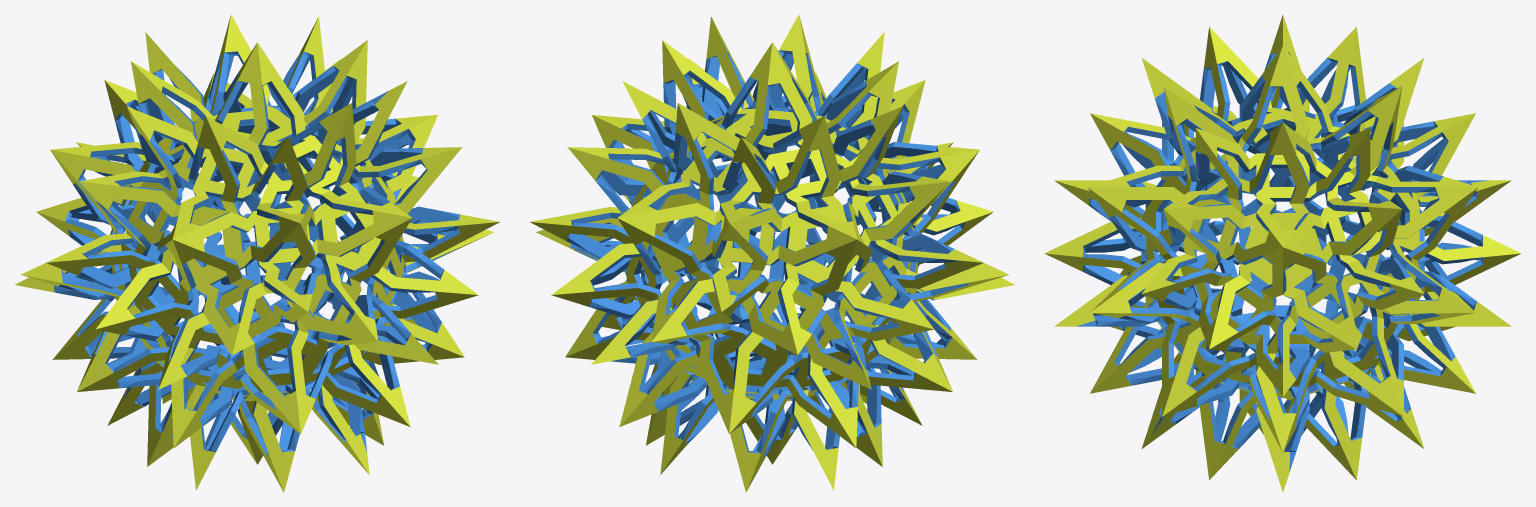
Rendered from StarPolyknotRhombicosidodecahedron1.glb.
3 views of the same model, side by side, from view 1: azimuth 30°, elevation 25°; view 2: azimuth 150°, elevation 25°; view 3: azimuth 270°, elevation 25° (orthographic).
Visible parts, largest first — view 1: ESCHER_BBBa_A11; view 2: ESCHER_BBBa_A11; view 3: ESCHER_BBBa_A11.
Boxes of the visible parts, <box> form: ESCHER_BBBa_A11: <box>15,14,499,492</box>; ESCHER_BBBa_A11: <box>530,14,1014,492</box>; ESCHER_BBBa_A11: <box>1044,15,1521,491</box>.
Bounding box in the file's own units: 157 × 150 × 156.
